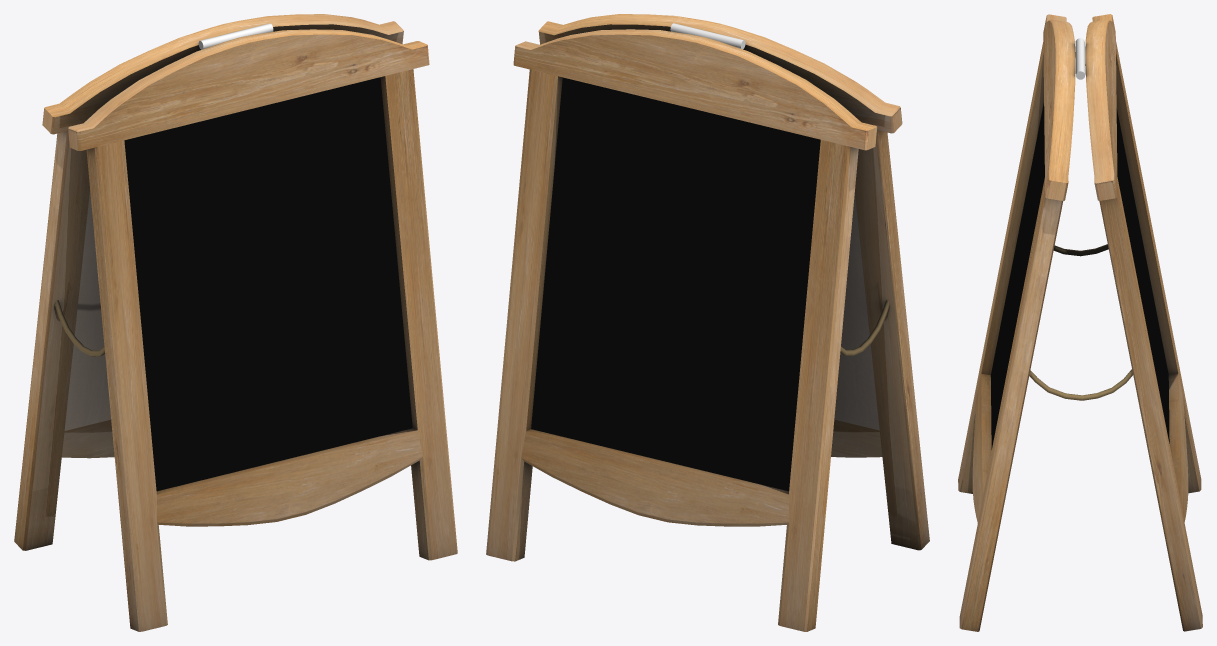
File: sign.glb
3 renders of one model, left to right at view 1: azimuth 30°, elevation 25°; view 2: azimuth 150°, elevation 25°; view 3: azimuth 270°, elevation 25°, orthographic. The views are drawn at different scales.
Visible parts, largest first — view 1: Material2-material-material.001, Material1-material-material.001, Material0-material-material.001, Material3-material-material, Material1-material-material, Material4-material-material, Material0-material-material, Material7-material-material; view 2: Material2-material-material, Material1-material-material, Material0-material-material, Material3-material-material.001, Material1-material-material.001, Material8-material-material, Material0-material-material.001, Material7-material-material; view 3: Material1-material-material.001, Material1-material-material, Material0-material-material.001, Material0-material-material, Material2-material-material.001, Material2-material-material, Material6-material-material, Material7-material-material.
Boxes of the visible parts, bbox=[...] form: Material2-material-material.001: bbox=[124, 77, 412, 491]; Material1-material-material.001: bbox=[86, 69, 457, 631]; Material0-material-material.001: bbox=[68, 29, 429, 526]; Material3-material-material: bbox=[26, 24, 402, 550]; Material1-material-material: bbox=[14, 131, 69, 550]; Material4-material-material: bbox=[64, 190, 111, 430]; Material0-material-material: bbox=[42, 14, 403, 134]; Material7-material-material: bbox=[198, 23, 273, 49]; Material2-material-material: bbox=[531, 77, 820, 491]; Material1-material-material: bbox=[486, 69, 858, 631]; Material0-material-material: bbox=[513, 29, 877, 526]; Material3-material-material.001: bbox=[539, 24, 918, 550]; Material1-material-material.001: bbox=[876, 130, 929, 550]; Material8-material-material: bbox=[834, 192, 879, 430]; Material0-material-material.001: bbox=[538, 14, 902, 133]; Material7-material-material: bbox=[670, 23, 745, 49]; Material1-material-material.001: bbox=[958, 42, 1063, 631]; Material1-material-material: bbox=[1099, 42, 1202, 631]; Material0-material-material.001: bbox=[972, 14, 1075, 522]; Material0-material-material: bbox=[1085, 14, 1188, 521]; Material2-material-material.001: bbox=[990, 103, 1044, 449]; Material2-material-material: bbox=[1116, 108, 1169, 443]; Material6-material-material: bbox=[1029, 244, 1132, 400]; Material7-material-material: bbox=[1075, 38, 1085, 79].
Size of the model in its own units: 1.58 by 2.23 by 0.9839.
Materials: 8 (7 with a texture image).
